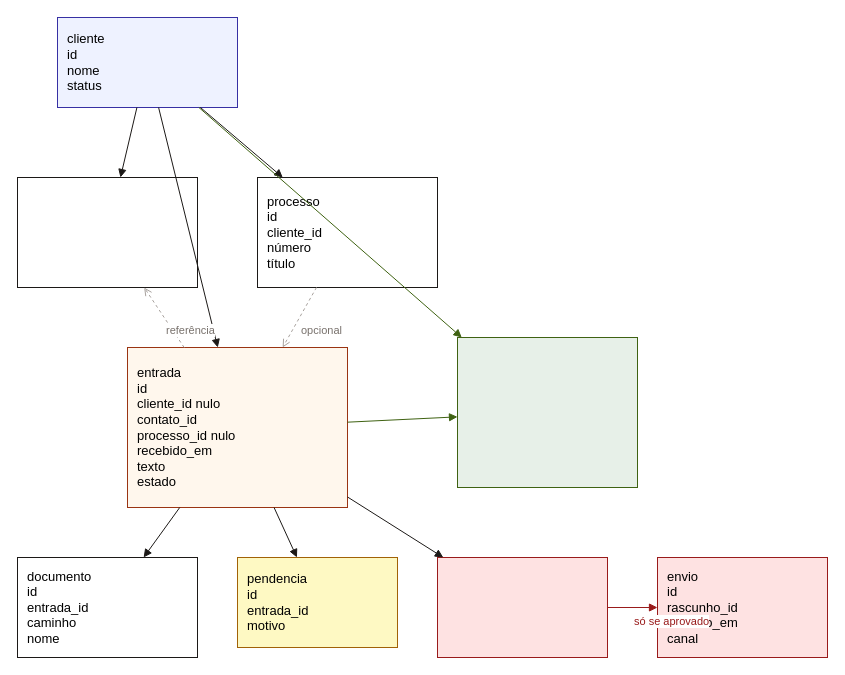
The diagram is 845 pixels wide and 675 high, and some of its shapes have lost their labels. Each missing label, with the centre of its shape:
contato id cliente_id tipo valor: the point at 107,232
rascunho id entrada_id texto estado: the point at 522,607
trecho id cliente_id entrada_id canal quando texto FTS5: the point at 547,412
